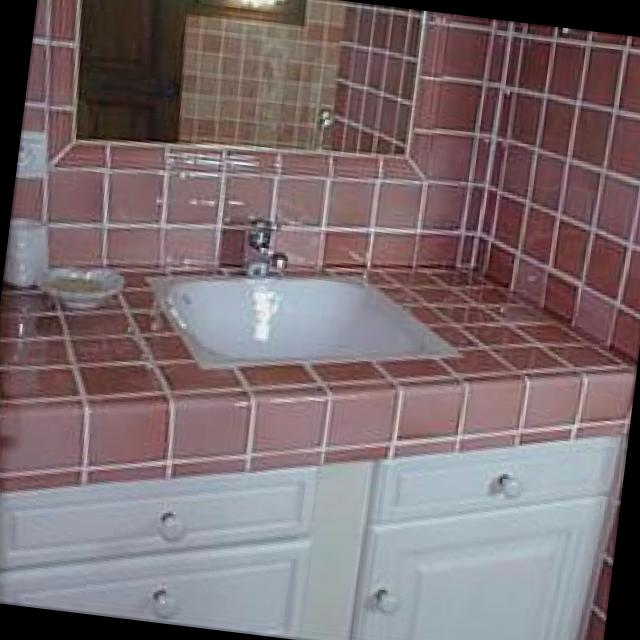countertop: (0, 260, 635, 496)
cupboard crop: (0, 433, 621, 640)
faucet handle: (254, 217, 288, 273)
mirror crop: (78, 0, 428, 155)
sink basin: (149, 272, 467, 366)
wall clock: (9, 0, 515, 269), (470, 21, 640, 640)
